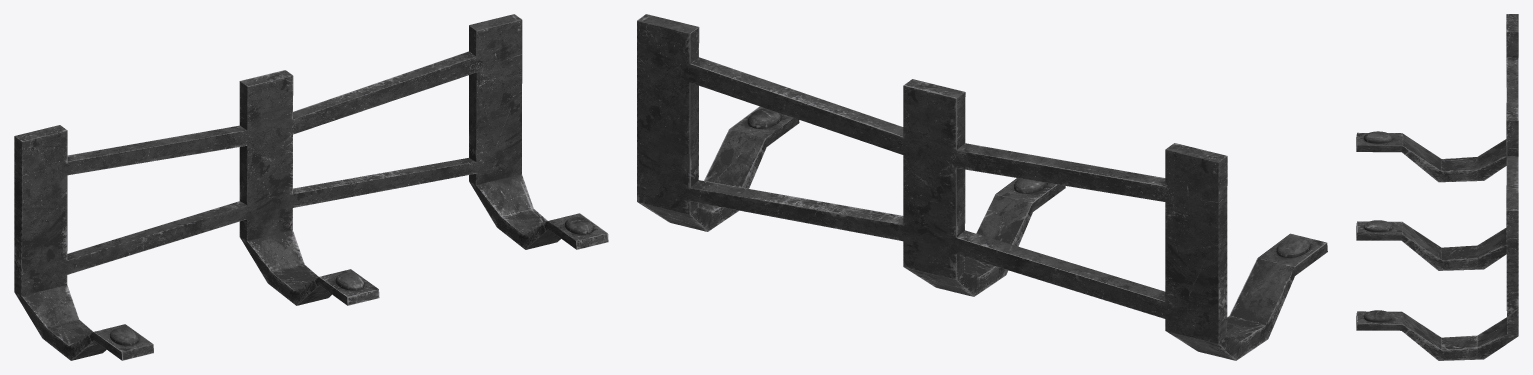
The model's file is Holder.gltf.
3 renders of one model, left to right at view 1: azimuth 30°, elevation 25°; view 2: azimuth 150°, elevation 25°; view 3: azimuth 270°, elevation 25°, orthographic. The views are drawn at different scales.
Visible parts, largest first — view 1: Cube.001; view 2: Cube.001; view 3: Cube.001.
Boxes of the visible parts, box(x1,y1,x2,y2) form: Cube.001: box(14, 14, 608, 360); Cube.001: box(637, 14, 1327, 360); Cube.001: box(1356, 14, 1518, 360).
Bounding box in the file's own units: 0.8825 × 0.3206 × 0.3085.
Materials: 1 (1 with a texture image).
